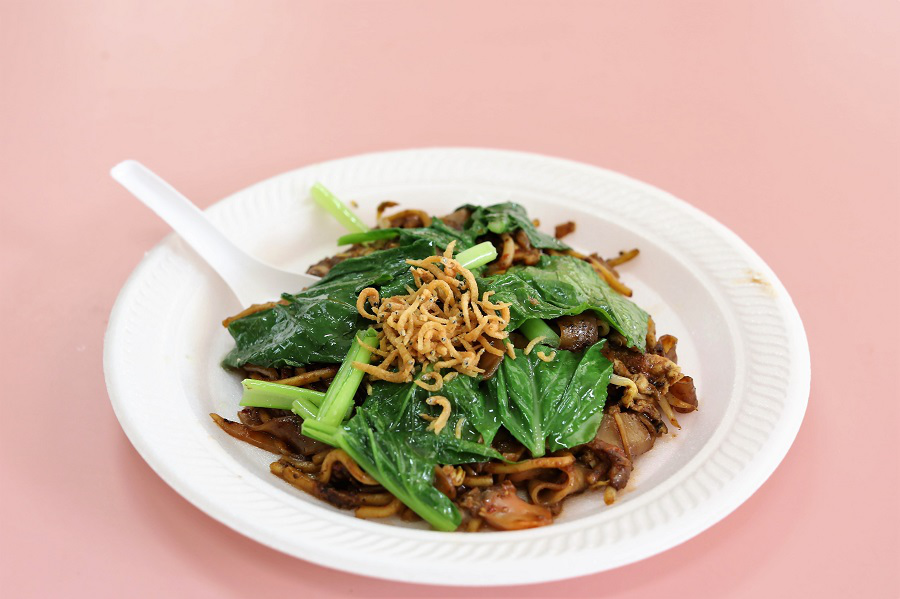Char Kway Teow: (232, 210, 713, 533)
